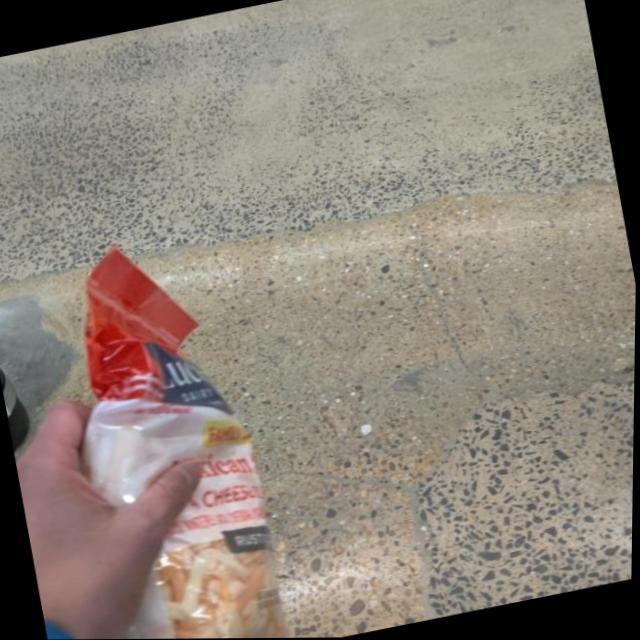Cheese: (21, 212, 325, 640)
